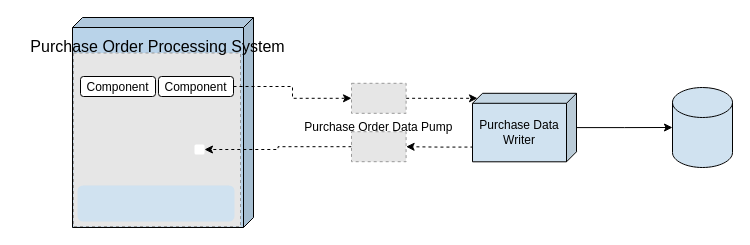
Image size: 750x245. Some labels were removed from this diagram. Grey dashed boxes stand in for pictures. The shapes that lost their labels are listed below. From the top down, each one's box as (x1, y1, x2, y2) in pixels, then its label:
(672, 86, 732, 168): database
(77, 185, 234, 221): Data Replication Engine
